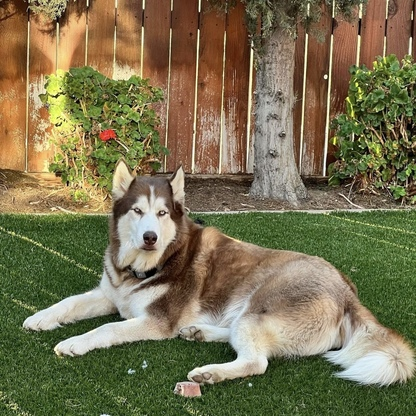husky: (18, 155, 416, 402)
